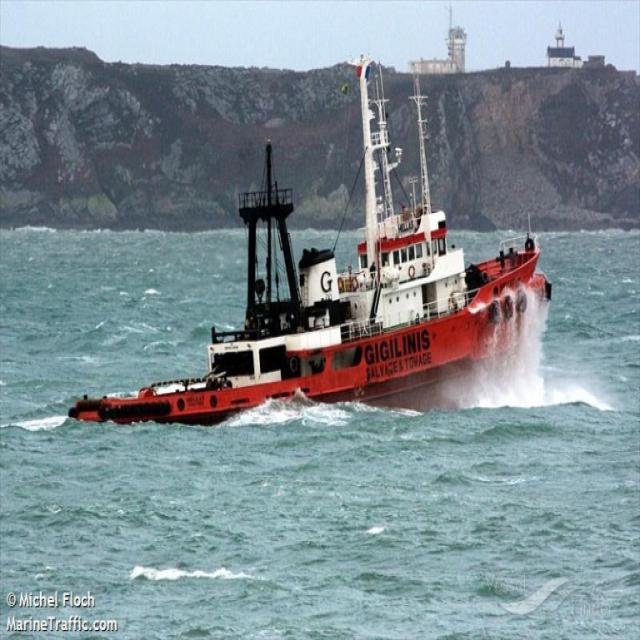tugboat: (70, 95, 554, 427)
